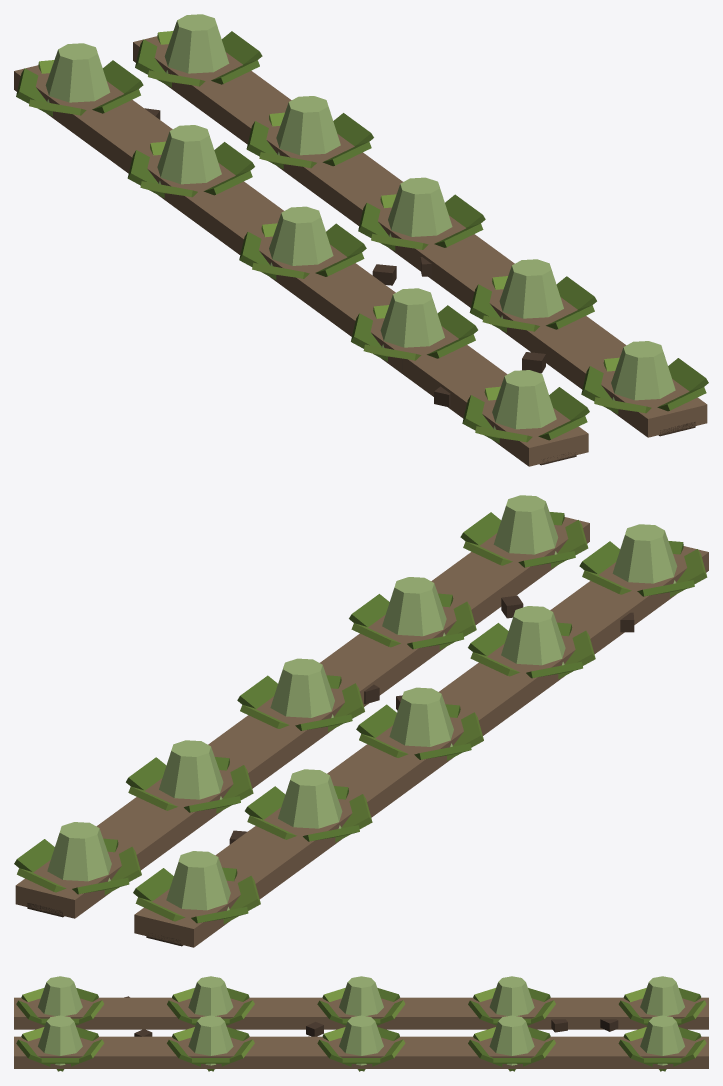
Rendered from crop_cabbage_4.glb.
3 views of the same model, one above another, from view 1: azimuth 30°, elevation 25°; view 2: azimuth 150°, elevation 25°; view 3: azimuth 270°, elevation 25° (orthographic). The views are drawn at different scales.
Parts seen in each view (by area): view 1: room_crop_cabbage_4; view 2: room_crop_cabbage_4; view 3: room_crop_cabbage_4.
Part boxes in pixels (bbox=[...]): room_crop_cabbage_4: bbox=[14, 14, 708, 466]; room_crop_cabbage_4: bbox=[14, 495, 708, 947]; room_crop_cabbage_4: bbox=[14, 976, 708, 1071].
Bounding box in the file's own units: 0.7622 × 0.2019 × 3.
